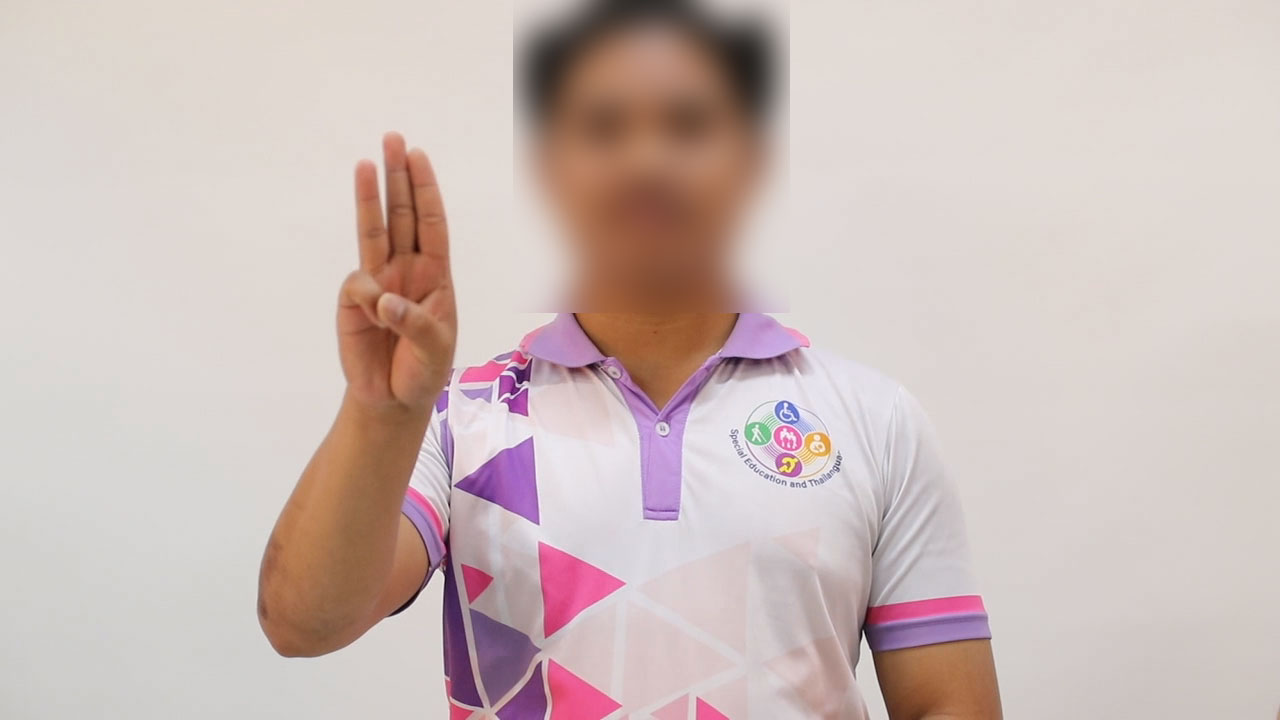wor: (330, 121, 464, 431)
